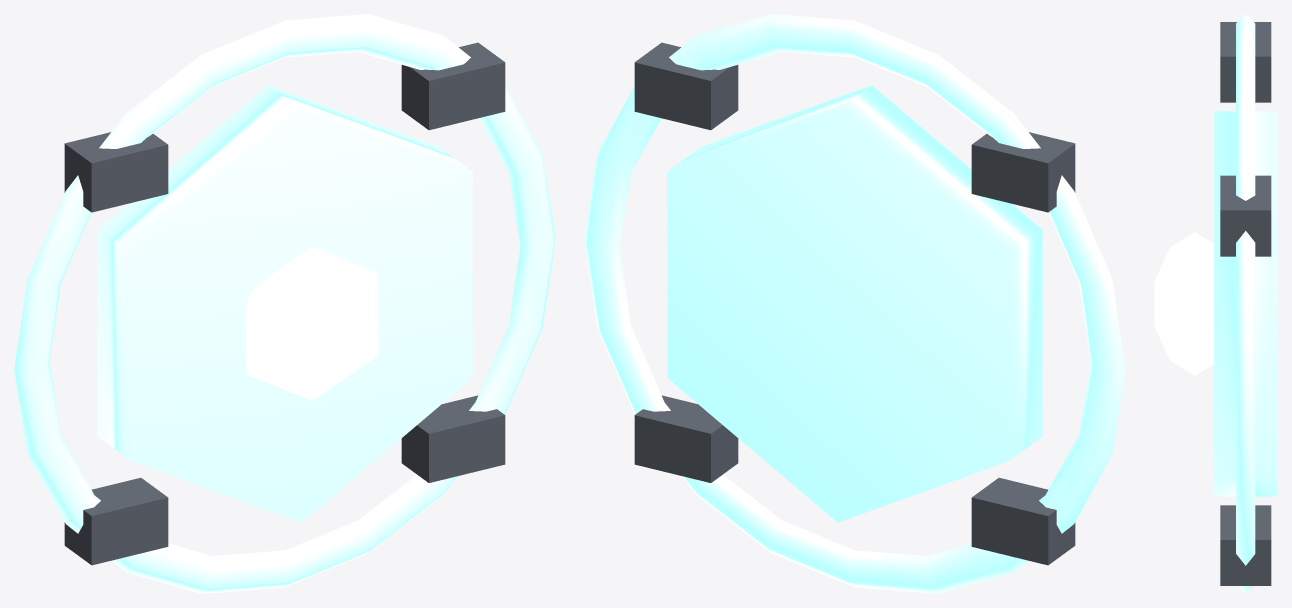
Rendered from pickup-shield.glb.
The picture shows the model from 3 angles, left to right: view 1: azimuth 30°, elevation 25°; view 2: azimuth 150°, elevation 25°; view 3: azimuth 270°, elevation 25°; orthographic projection. The views are drawn at different scales.
Visible parts, largest first — view 1: 盾面, 能量环, 中央亮芯, 角标3, 角标2, 角标0, 角标1; view 2: 盾面, 能量环, 角标3, 角标2, 角标0, 角标1; view 3: 盾面, 能量环, 中央亮芯, 角标0, 角标3, 角标1.
Boxes of the visible parts, x1=… form: 盾面: x1=97, y1=85, x2=472, y2=522; 能量环: x1=14, y1=14, x2=555, y2=593; 中央亮芯: x1=245, y1=247, x2=378, y2=400; 角标3: x1=401, y1=395, x2=505, y2=482; 角标2: x1=64, y1=477, x2=168, y2=565; 角标0: x1=401, y1=42, x2=505, y2=130; 角标1: x1=64, y1=132, x2=168, y2=212; 盾面: x1=667, y1=85, x2=1042, y2=522; 能量环: x1=584, y1=14, x2=1125, y2=593; 角标3: x1=634, y1=395, x2=738, y2=482; 角标2: x1=971, y1=477, x2=1075, y2=565; 角标0: x1=634, y1=42, x2=738, y2=130; 角标1: x1=971, y1=132, x2=1075, y2=212; 盾面: x1=1214, y1=111, x2=1277, y2=496; 能量环: x1=1236, y1=14, x2=1255, y2=593; 中央亮芯: x1=1154, y1=232, x2=1213, y2=375; 角标0: x1=1220, y1=175, x2=1271, y2=256; 角标3: x1=1220, y1=505, x2=1271, y2=585; 角标1: x1=1220, y1=22, x2=1271, y2=102.
Bounding box in the file's own units: 1.84 × 1.84 × 0.3876.
